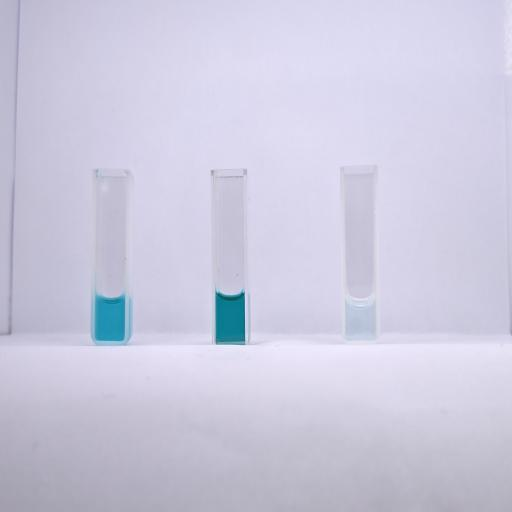cuvette: (337, 163, 383, 346), (88, 167, 134, 347), (209, 166, 252, 348)
liquid: (94, 290, 124, 341), (216, 290, 245, 341), (346, 296, 375, 339)
